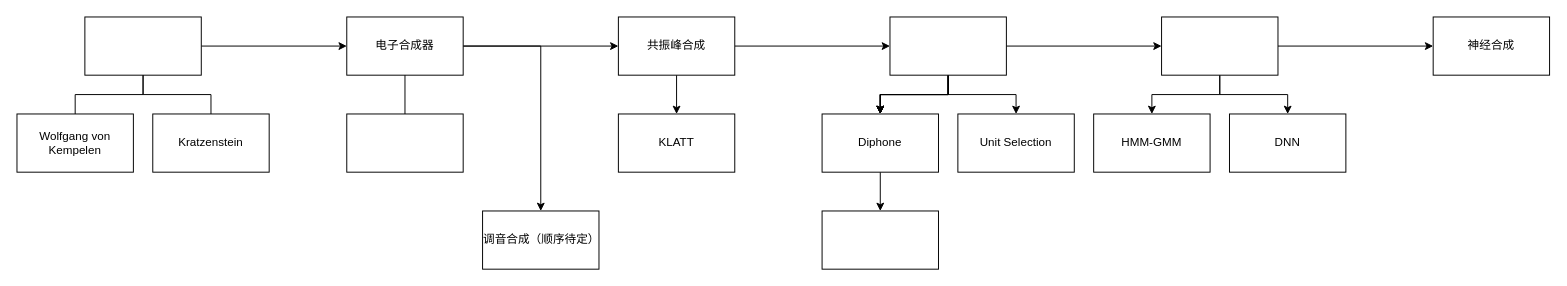
This 1567x286 diagram has some shape labels left out. Each missing label, with the box of its shape:
TD-PSOLA: (821, 210, 938, 269)
VODER: (346, 113, 463, 172)
机械装置: (84, 16, 201, 75)
波形拼接合成: (889, 16, 1006, 75)
统计参数合成: (1161, 16, 1278, 75)
